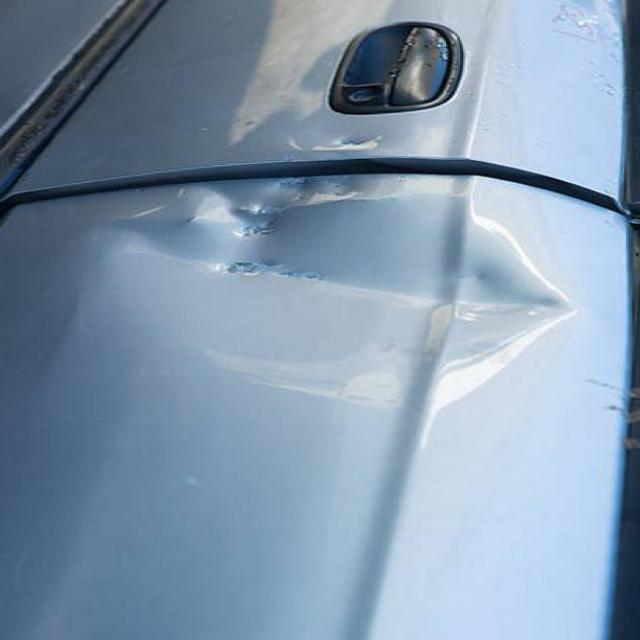dent: (90, 168, 596, 400)
